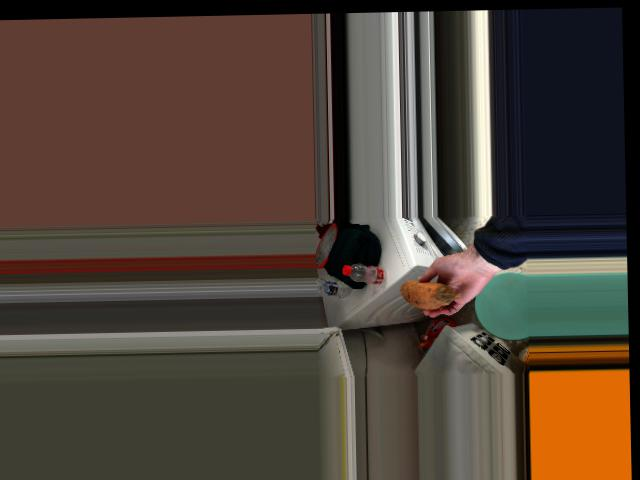sweet_potato: (396, 276, 463, 306)
